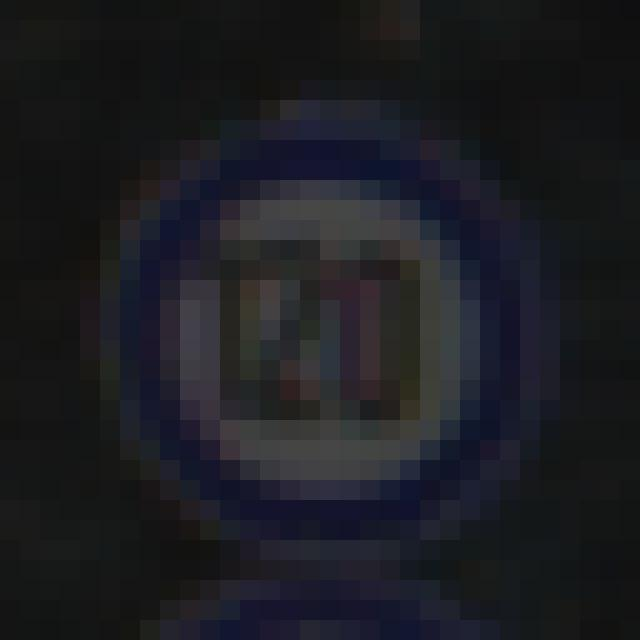SPEED LIMIT 120: (99, 118, 541, 550)
